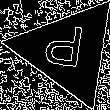P_S: (44, 23, 91, 78)
